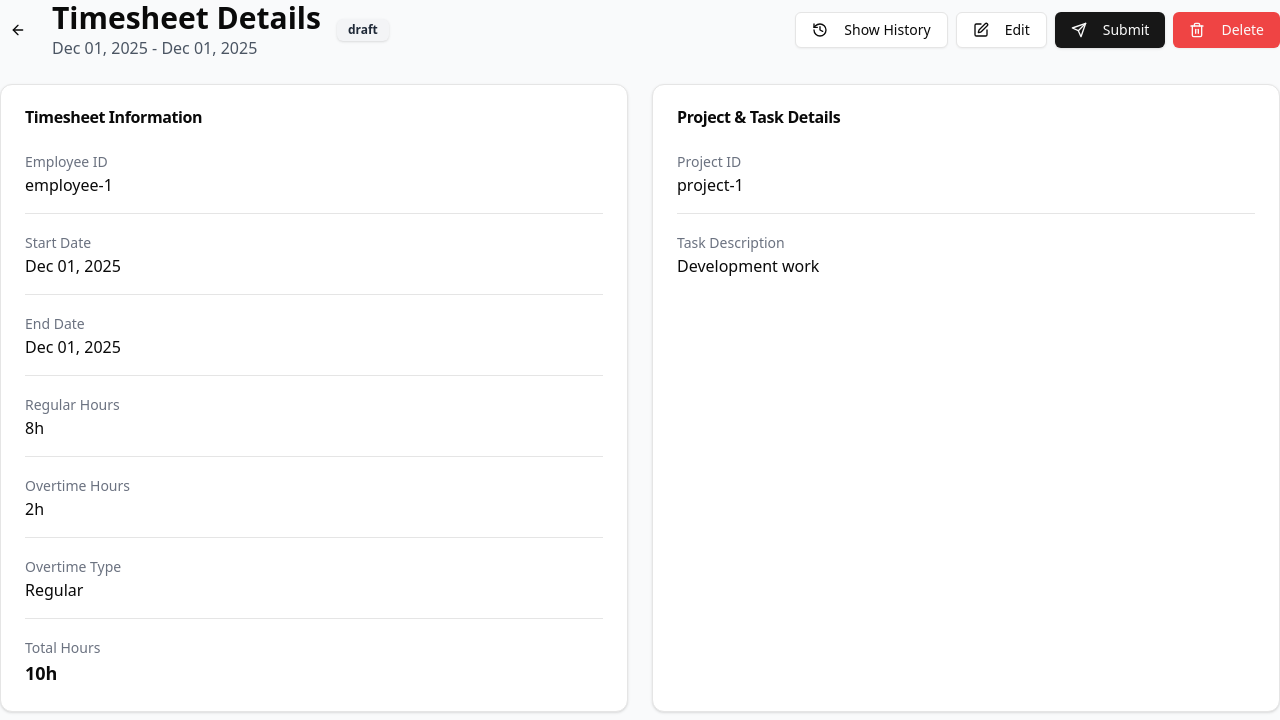
Test case: TimesheetDetail › should open submit dialog on submit click
Click the button "Submit": [1110, 30] box [1055,12,1165,48]
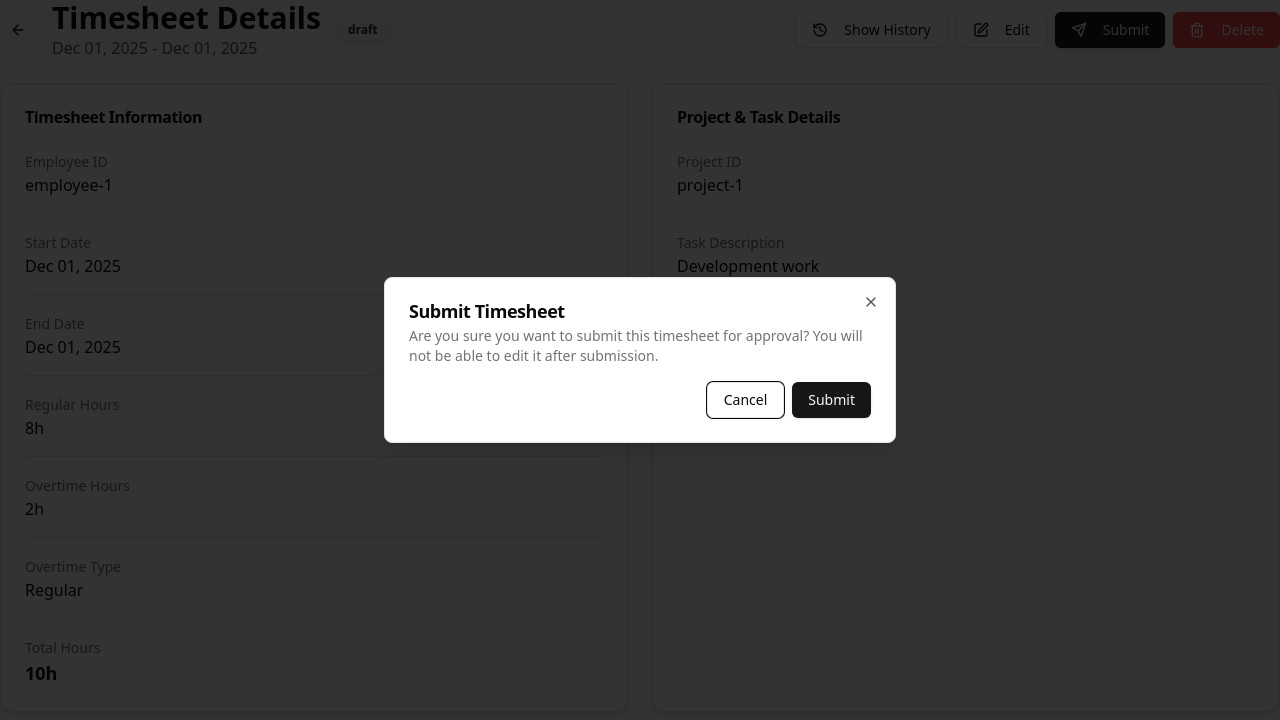
Result: the heading "Submit Timesheet" is shown at [409,299,565,323]
Result: the text "you will not be able to edit it after submission" is shown at [409,326,863,365]
